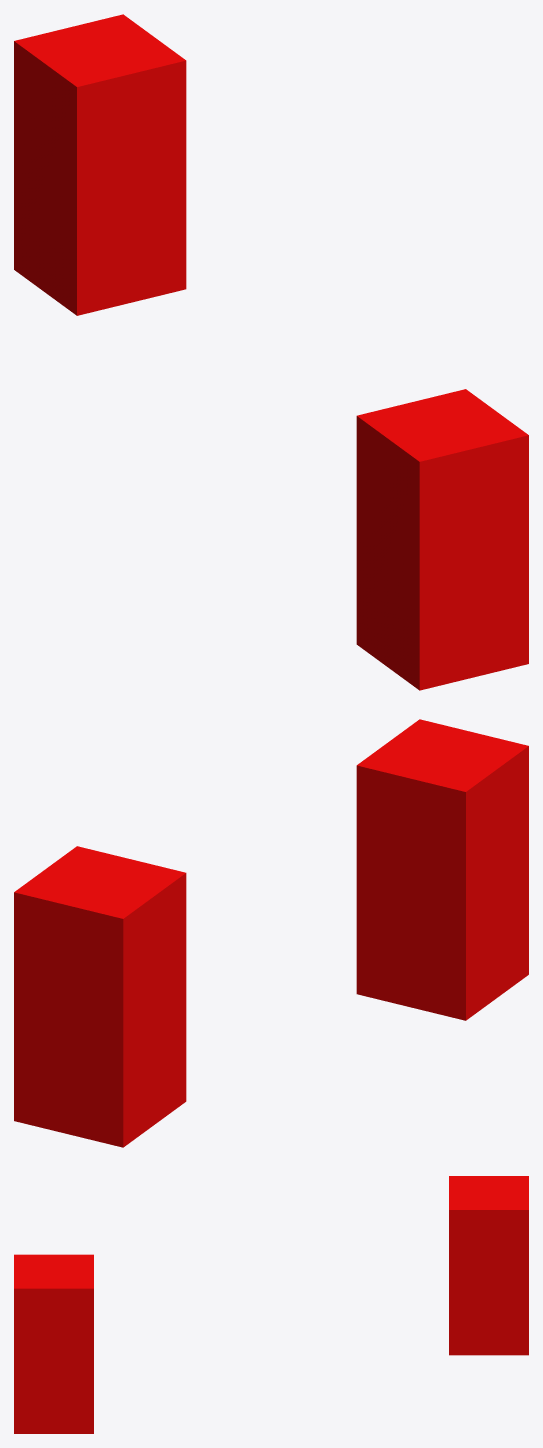
Rendered from Boxs.fbx.
3 views of the same model, one above another, from view 1: azimuth 30°, elevation 25°; view 2: azimuth 150°, elevation 25°; view 3: azimuth 270°, elevation 25° (orthographic). The views are drawn at different scales.
Visible parts, largest first — view 1: pCube1, pCube2; view 2: pCube1, pCube2; view 3: pCube1, pCube2.
Boxes of the visible parts, <box> form: pCube1: <box>14,14,186,315</box>; pCube2: <box>356,389,528,690</box>; pCube1: <box>14,846,186,1147</box>; pCube2: <box>356,719,528,1020</box>; pCube1: <box>449,1176,528,1355</box>; pCube2: <box>14,1254,93,1433</box>.
Size of the model in its own units: 2 by 6.17 by 12.86.
